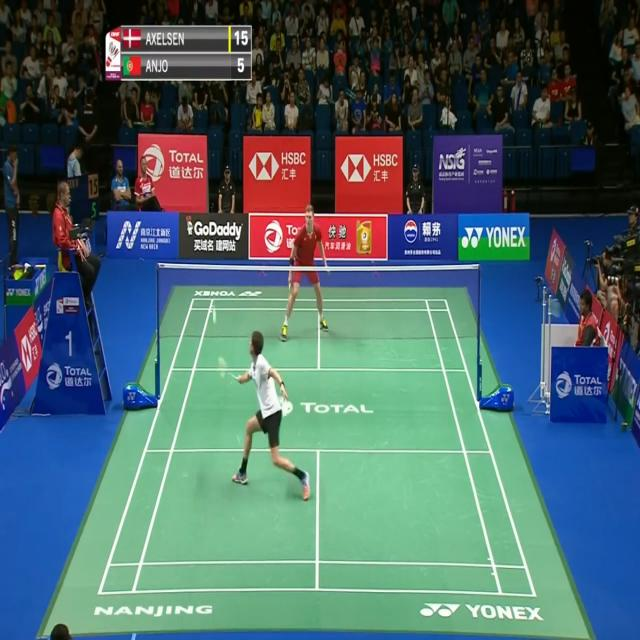Player1: (214, 324, 315, 506)
Player2: (265, 203, 339, 342)
